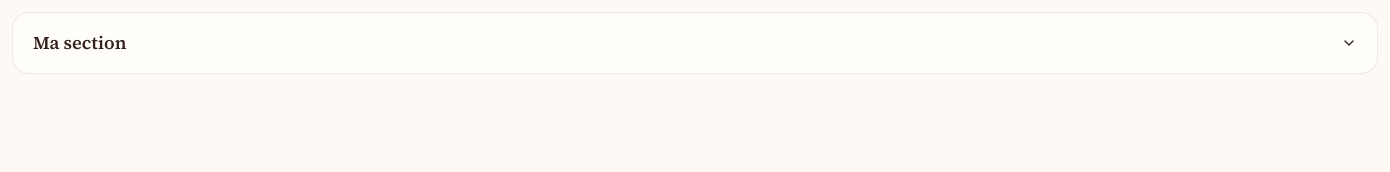
Test case: Section › is closed by default and reveals its content on click
This screenshot has width=1390, height=172.
Check: the text "Contenu" is not shown
Step 1. Click the button "Ma section" → (80, 42), box [13,13,1377,73]
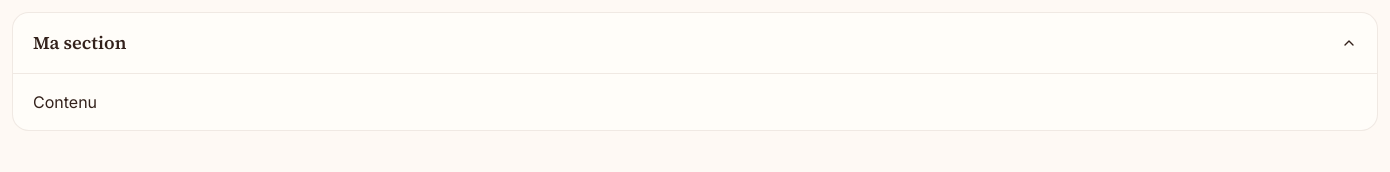
Check: the text "Contenu" is shown, box [33,92,97,112]
